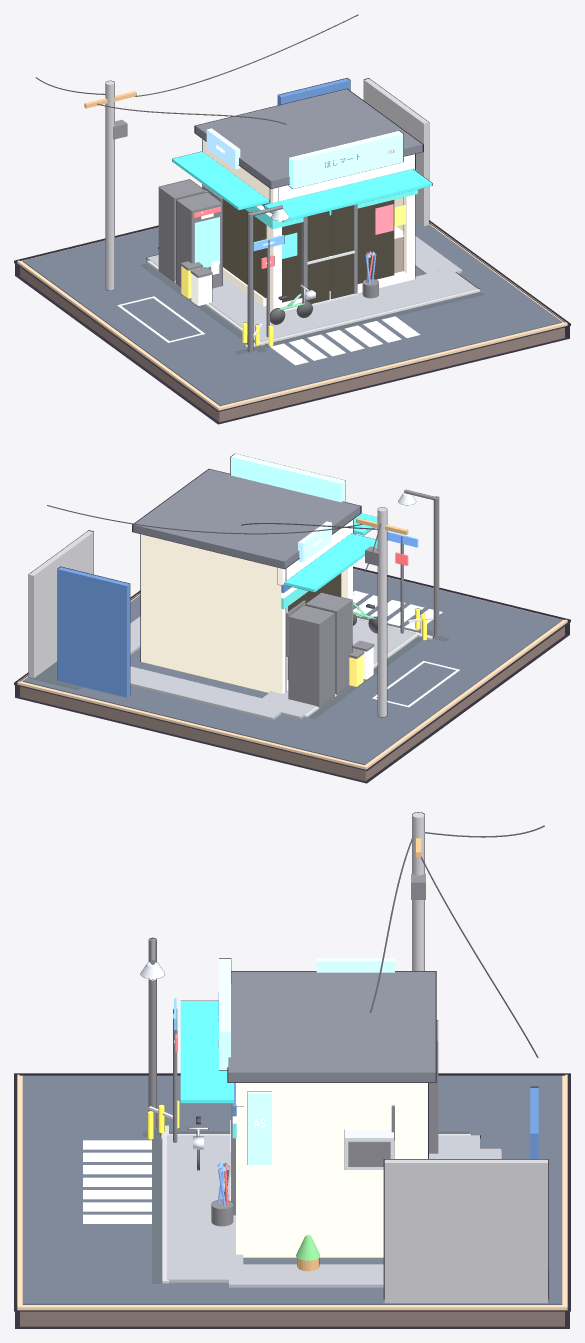
File: konbini_rain_night.glb
3 renders of one model, top to bottom at view 1: azimuth 30°, elevation 25°; view 2: azimuth 150°, elevation 25°; view 3: azimuth 270°, elevation 25°, orthographic. The views are drawn at different scales.
Visible parts, largest first — view 1: StreetDeck, Roof, Plinth, PlinthEdge, SidewalkFront, SignBox, GlassFront, Awning, AlleyWallA, GlassLeft, AwningLeft, VendA_body (+23 smaller); view 2: StreetDeck, WallBack, Roof, AlleyWallB, Plinth, VendB_body, AlleyWallA, PlinthEdge, SidewalkBack, SignBox, AwningLeft, UtilityPole (+12 smaller); view 3: StreetDeck, AlleyWallA, WallRight, Roof, Plinth, PlinthEdge, SidewalkFront, Awning, SidewalkRight, SidewalkLeft, Neon24Box, GutterFront (+18 smaller).
Part boxes in pixels (x1,y1,x2,y2): StreetDeck: [19, 220, 565, 406]; Roof: [194, 88, 423, 188]; Plinth: [15, 221, 569, 424]; PlinthEdge: [14, 220, 570, 411]; SidewalkFront: [259, 268, 478, 336]; SignBox: [288, 130, 403, 188]; GlassFront: [282, 200, 394, 302]; Awning: [264, 169, 432, 222]; AlleyWallA: [363, 78, 429, 226]; GlassLeft: [222, 199, 266, 298]; AwningLeft: [172, 151, 269, 210]; VendA_body: [176, 192, 222, 288]; StreetDeck: [19, 567, 565, 765]; WallBack: [140, 534, 286, 693]; Roof: [132, 468, 361, 569]; AlleyWallB: [57, 566, 130, 697]; Plinth: [15, 567, 569, 783]; VendB_body: [288, 605, 334, 707]; AlleyWallA: [28, 530, 93, 678]; PlinthEdge: [14, 566, 570, 770]; SidewalkBack: [130, 666, 280, 720]; SignBox: [230, 453, 345, 502]; AwningLeft: [284, 533, 377, 592]; UtilityPole: [377, 507, 387, 717]; StreetDeck: [19, 1074, 565, 1304]; AlleyWallA: [383, 1159, 548, 1303]; WallRight: [244, 1083, 428, 1256]; Roof: [227, 971, 436, 1082]; Plinth: [15, 1074, 569, 1328]; PlinthEdge: [14, 1073, 570, 1311]; SidewalkFront: [167, 1148, 243, 1282]; Awning: [180, 1000, 233, 1103]; SidewalkRight: [229, 1264, 383, 1287]; SidewalkLeft: [200, 1135, 480, 1167]; Neon24Box: [247, 1091, 271, 1164]; GutterFront: [152, 1119, 162, 1283].
Size of the model in its own units: 8.17 by 4.95 by 8.17.
